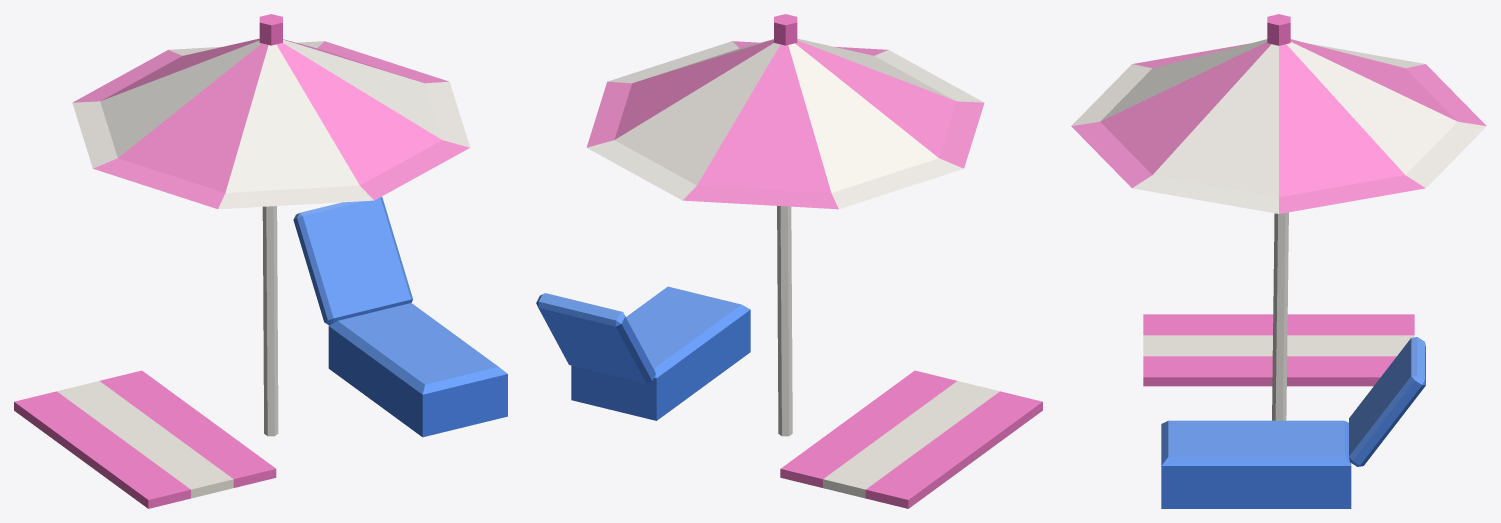
File: BeachUmbrella_6.glb
3 renders of one model, left to right at view 1: azimuth 30°, elevation 25°; view 2: azimuth 150°, elevation 25°; view 3: azimuth 270°, elevation 25°, orthographic.
Visible parts, largest first — view 1: BeachUmbrella_6; view 2: BeachUmbrella_6; view 3: BeachUmbrella_6.
Boxes of the visible parts, bbox=[...] form: BeachUmbrella_6: bbox=[14, 14, 507, 508]; BeachUmbrella_6: bbox=[536, 14, 1042, 508]; BeachUmbrella_6: bbox=[1071, 14, 1486, 508].
Bounding box in the file's own units: 9.5 × 10.2 × 9.2.
1 material, 1 textured.
